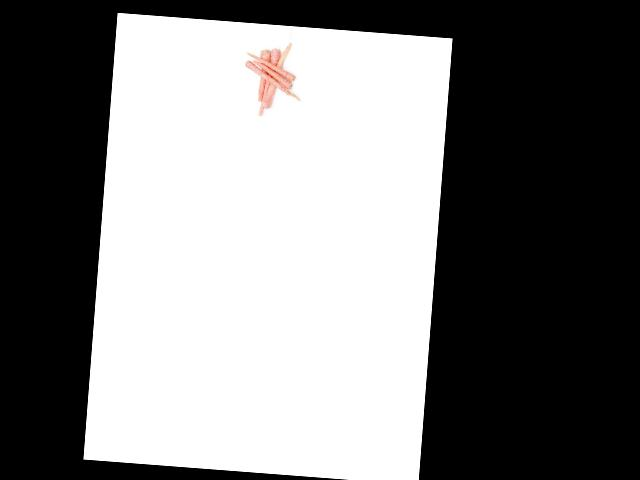carrot: (245, 51, 296, 78)
